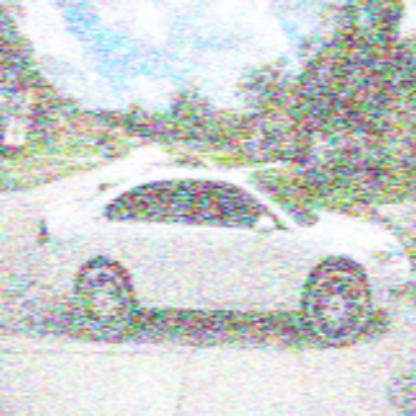Vehicle: (34, 168, 413, 349)
